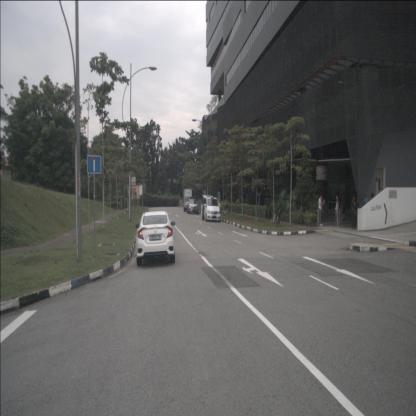human-pedestrian-adult: (361, 194, 369, 228), (318, 192, 326, 226), (350, 195, 358, 229), (334, 194, 339, 226), (342, 194, 346, 221)
vehicle-car: (136, 211, 176, 266), (201, 195, 221, 222), (188, 199, 198, 214)
vehicle-truck: (183, 189, 192, 211)
